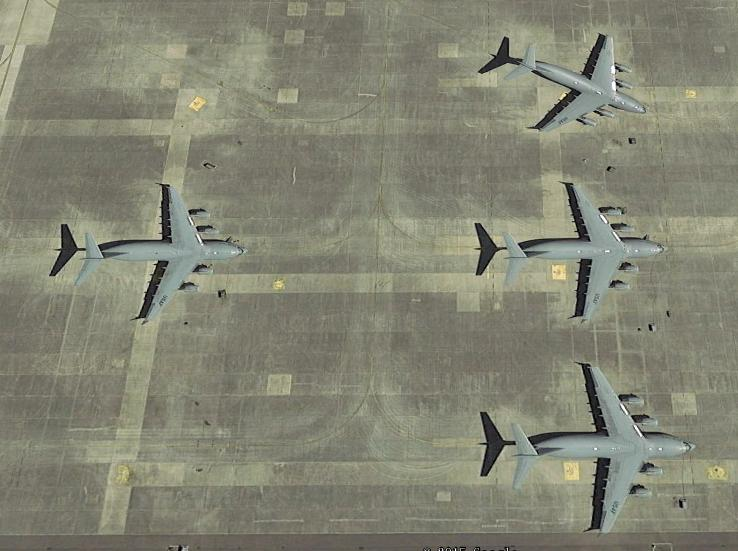C-17: (496, 355, 695, 538), (70, 178, 252, 327), (491, 183, 668, 326), (504, 28, 652, 142)
